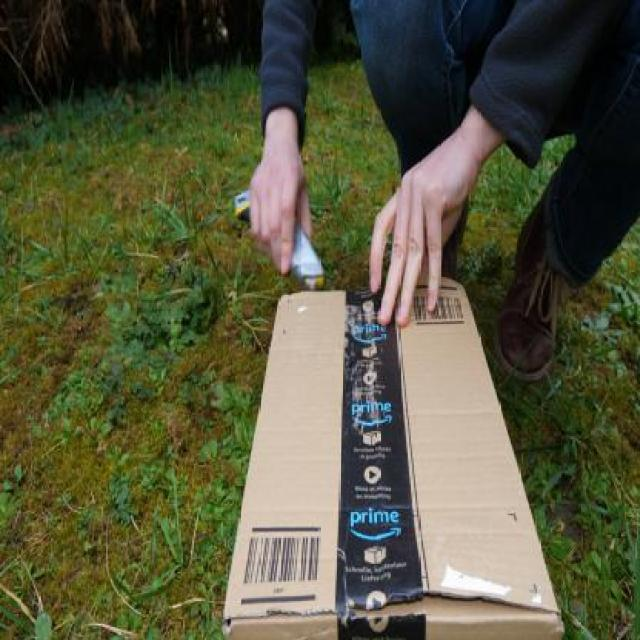box: (224, 277, 578, 640)
